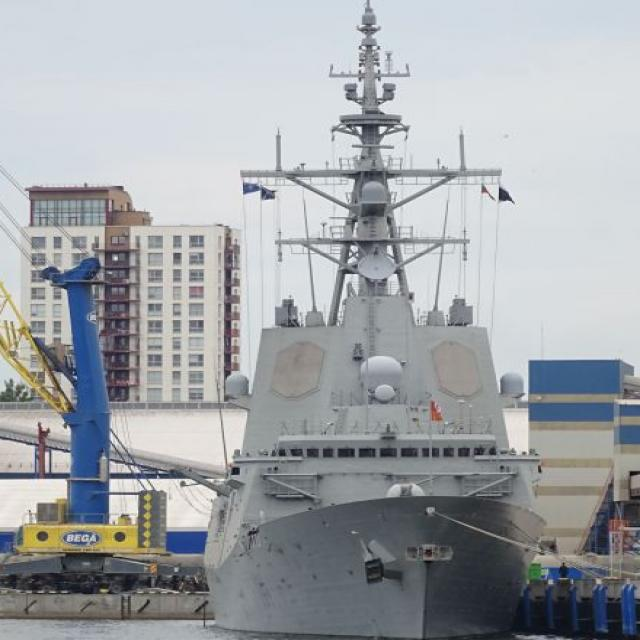Fragata: (197, 1, 551, 640)
